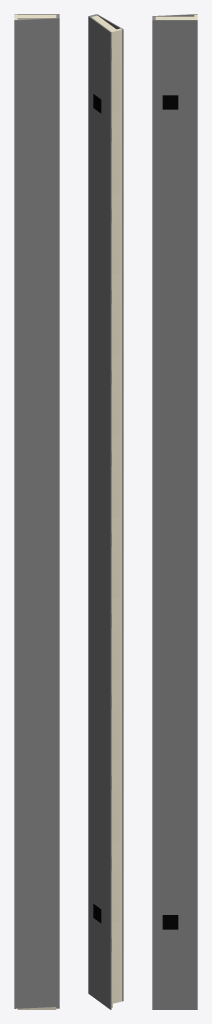
File: 2026_ARC_3v3_outer_wall_bottom.gltf
3 renders of one model, left to right at view 1: azimuth 90°, elevation 25°; view 2: azimuth 210°, elevation 25°; view 3: azimuth 270°, elevation 25°, orthographic.
Visible parts, largest first — view 1: Surface 1202, Surface 1204, Surface 1218, Surface 1216, Surface 1214, Surface 1206, Surface 1223, Surface 1222, Surface 1220, Surface 1212, Surface 1210, Surface 1208 (+1 smaller); view 2: Surface 1109, Surface 1105, Surface 1102, Surface 1099, Surface 1093, Surface 1090, Surface 1087, Surface 1084, Surface 1096, Surface 1078, Surface 1081, Surface 1108 (+26 smaller); view 3: Surface 1109, Surface 1105, Surface 1102, Surface 1099, Surface 1096, Surface 1093, Surface 1090, Surface 1087, Surface 1084, Surface 1078, Surface 1081, Surface 1108 (+2 smaller).
Part boxes in pixels (<box>): Surface 1202: <box>14,18,59,102</box>; Surface 1204: <box>14,100,59,185</box>; Surface 1218: <box>14,677,59,761</box>; Surface 1216: <box>14,595,59,679</box>; Surface 1214: <box>14,512,59,596</box>; Surface 1206: <box>14,183,59,267</box>; Surface 1223: <box>14,924,59,1008</box>; Surface 1222: <box>14,842,59,926</box>; Surface 1220: <box>14,759,59,843</box>; Surface 1212: <box>14,430,59,514</box>; Surface 1210: <box>14,348,59,432</box>; Surface 1208: <box>14,265,59,349</box>; Surface 1109: <box>88,907,111,1009</box>; Surface 1105: <box>88,745,111,842</box>; Surface 1102: <box>88,664,111,761</box>; Surface 1099: <box>88,583,111,680</box>; Surface 1093: <box>88,421,111,518</box>; Surface 1090: <box>88,340,111,437</box>; Surface 1087: <box>88,259,111,356</box>; Surface 1084: <box>88,178,111,275</box>; Surface 1096: <box>88,502,111,599</box>; Surface 1078: <box>88,16,111,113</box>; Surface 1081: <box>88,97,111,194</box>; Surface 1108: <box>88,826,111,923</box>; Surface 1109: <box>152,922,197,1009</box>; Surface 1105: <box>152,758,197,840</box>; Surface 1102: <box>152,676,197,758</box>; Surface 1099: <box>152,594,197,676</box>; Surface 1096: <box>152,512,197,594</box>; Surface 1093: <box>152,430,197,512</box>; Surface 1090: <box>152,348,197,430</box>; Surface 1087: <box>152,266,197,348</box>; Surface 1084: <box>152,184,197,266</box>; Surface 1078: <box>152,20,197,102</box>; Surface 1081: <box>152,102,197,184</box>; Surface 1108: <box>152,840,197,922</box>.
Size of the model in its own units: 0.1699 by 12.07 by 0.5.
